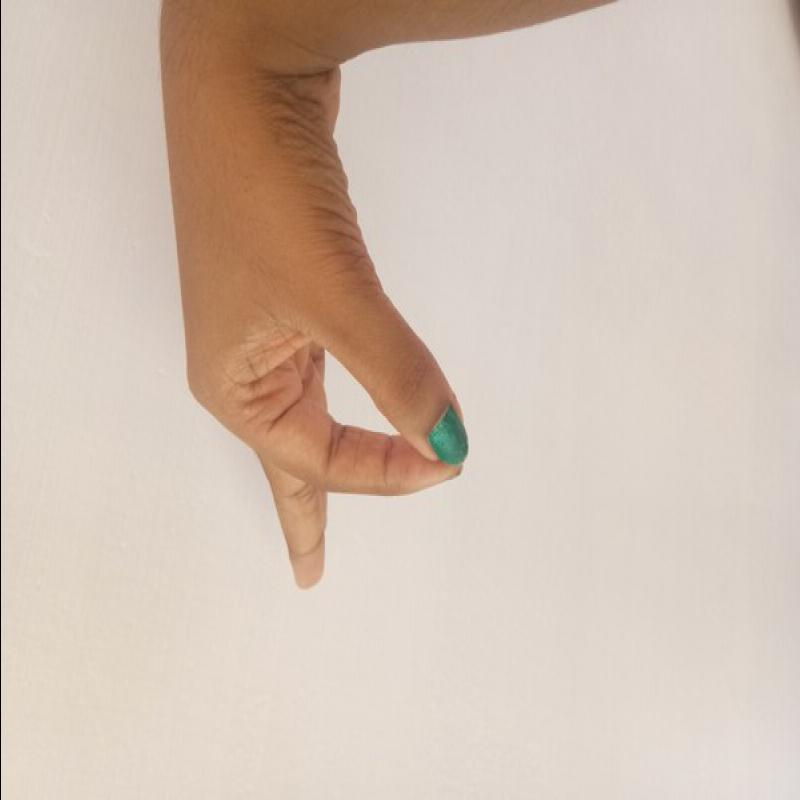Mudraakhyam: (158, 59, 475, 605)
